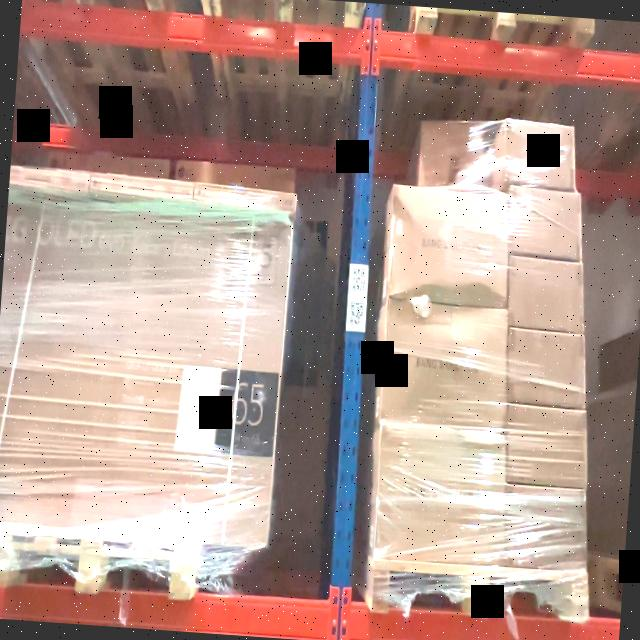box: (375, 426, 505, 566), (380, 302, 508, 431), (386, 187, 511, 307), (506, 485, 586, 568), (508, 406, 586, 484), (508, 330, 583, 406), (509, 258, 582, 328), (509, 188, 580, 255), (504, 120, 573, 188), (419, 122, 486, 188), (175, 160, 296, 190), (39, 150, 170, 176)
